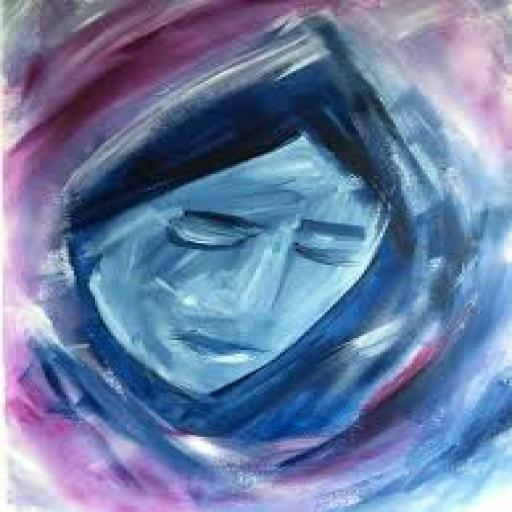person: (50, 12, 450, 478)
